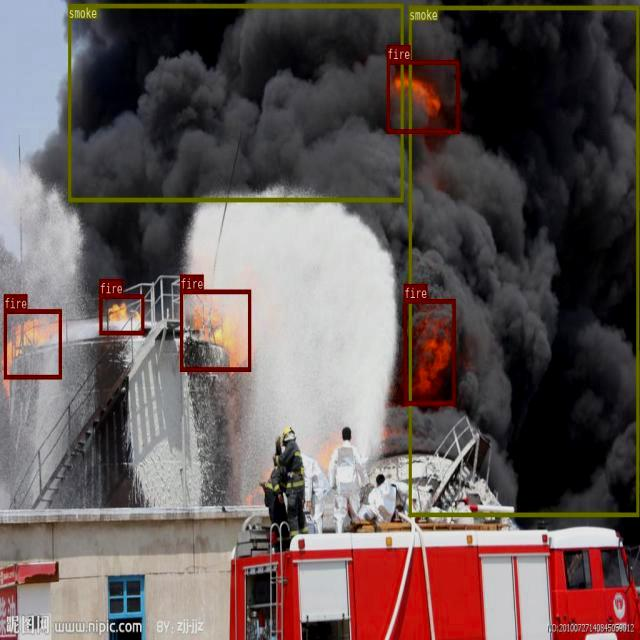fire: (180, 288, 250, 371), (404, 298, 454, 404), (386, 59, 458, 132), (3, 308, 61, 378), (99, 294, 144, 334)
smoke: (408, 5, 638, 516), (68, 3, 404, 202)
